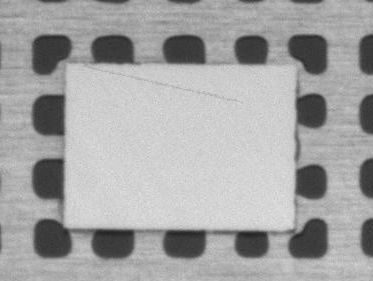DIE_CRACK: (112, 50, 321, 77)
